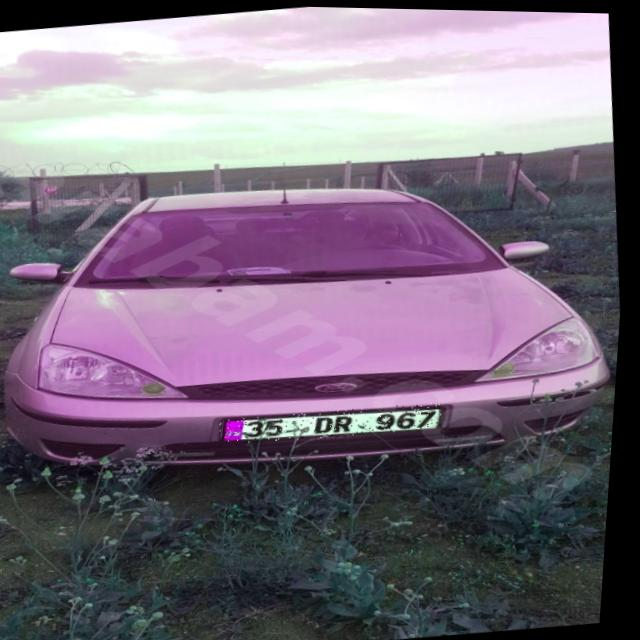license_plate: (222, 395, 449, 448)
